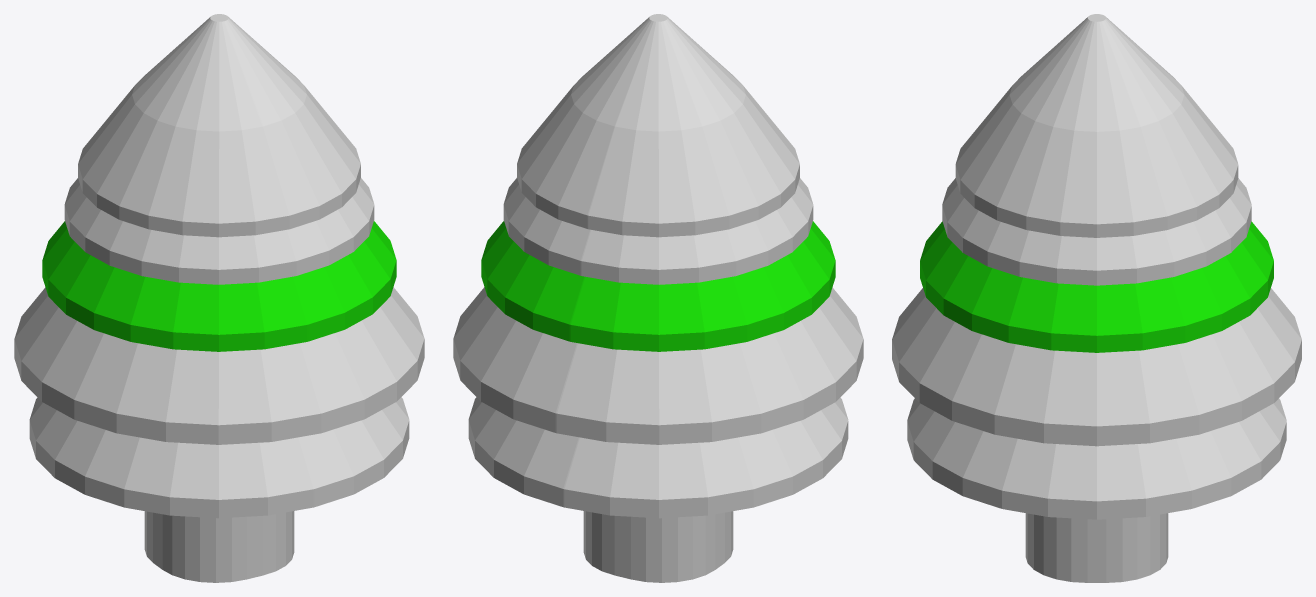
Rendered from tree.gltf.
3 views of the same model, side by side, from view 1: azimuth 30°, elevation 25°; view 2: azimuth 150°, elevation 25°; view 3: azimuth 270°, elevation 25° (orthographic).
Parts seen in each view (by area): view 1: Cube.005, Cube.002, Cube.001, Cube.003, Cube.004, Cube; view 2: Cube.005, Cube.002, Cube.001, Cube.003, Cube.004, Cube; view 3: Cube.005, Cube.002, Cube.001, Cube.003, Cube.004, Cube.
Part boxes in pixels (x1,y1,x2,y2): Cube.005: (78, 14, 360, 237); Cube.002: (14, 287, 424, 444); Cube.001: (29, 397, 409, 518); Cube.003: (42, 221, 396, 351); Cube.004: (64, 178, 374, 284); Cube: (144, 511, 294, 582); Cube.005: (517, 14, 799, 237); Cube.002: (453, 287, 863, 444); Cube.001: (468, 397, 848, 518); Cube.003: (481, 221, 835, 351); Cube.004: (503, 178, 813, 284); Cube: (583, 511, 733, 582); Cube.005: (955, 14, 1238, 237); Cube.002: (892, 288, 1301, 446); Cube.001: (907, 398, 1286, 519); Cube.003: (920, 221, 1273, 352); Cube.004: (942, 178, 1251, 285); Cube: (1025, 513, 1168, 582).
Bounding box in the file's own units: 4.99 × 7.17 × 4.97.
